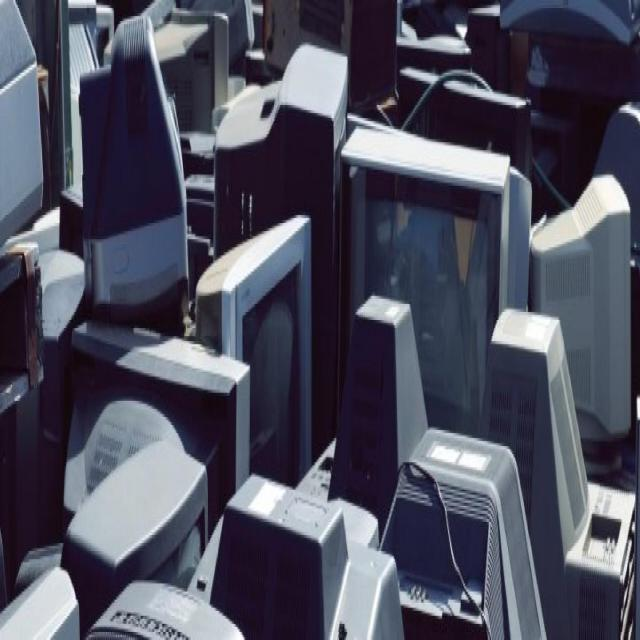hazard: (6, 0, 631, 639)
